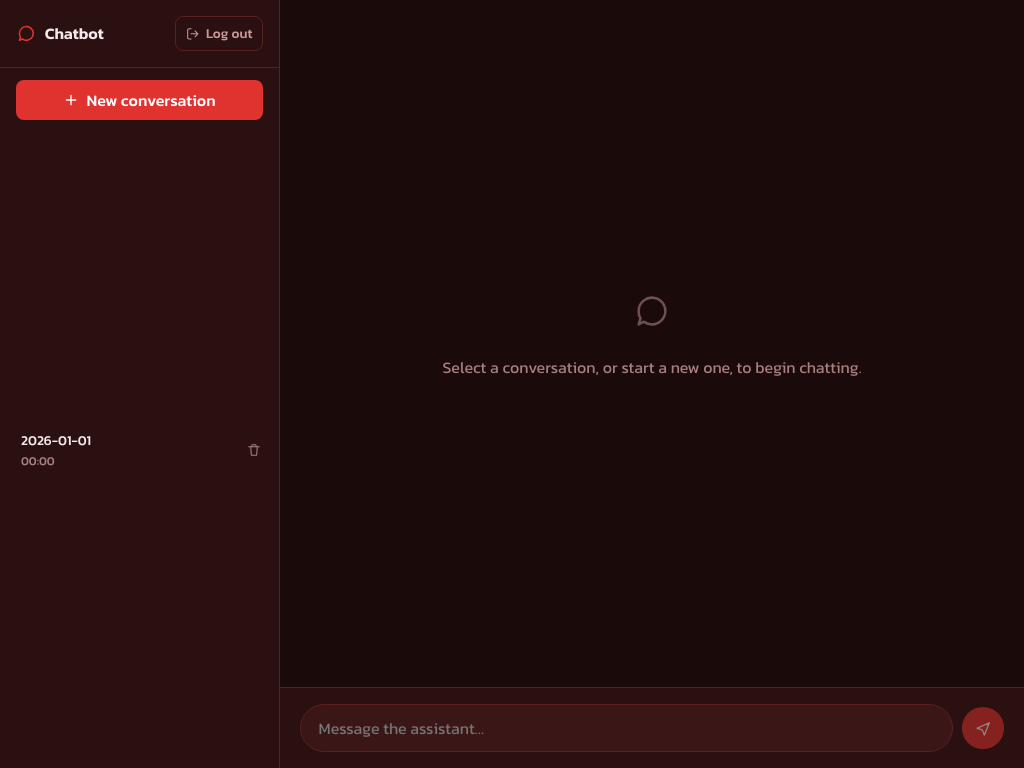
a provider failure shows an inline error and does not add a broken assistant message
Click the button "2026-01-01 00:00" at coordinates (121, 450), box x1=10 y1=421 x2=232 y2=479
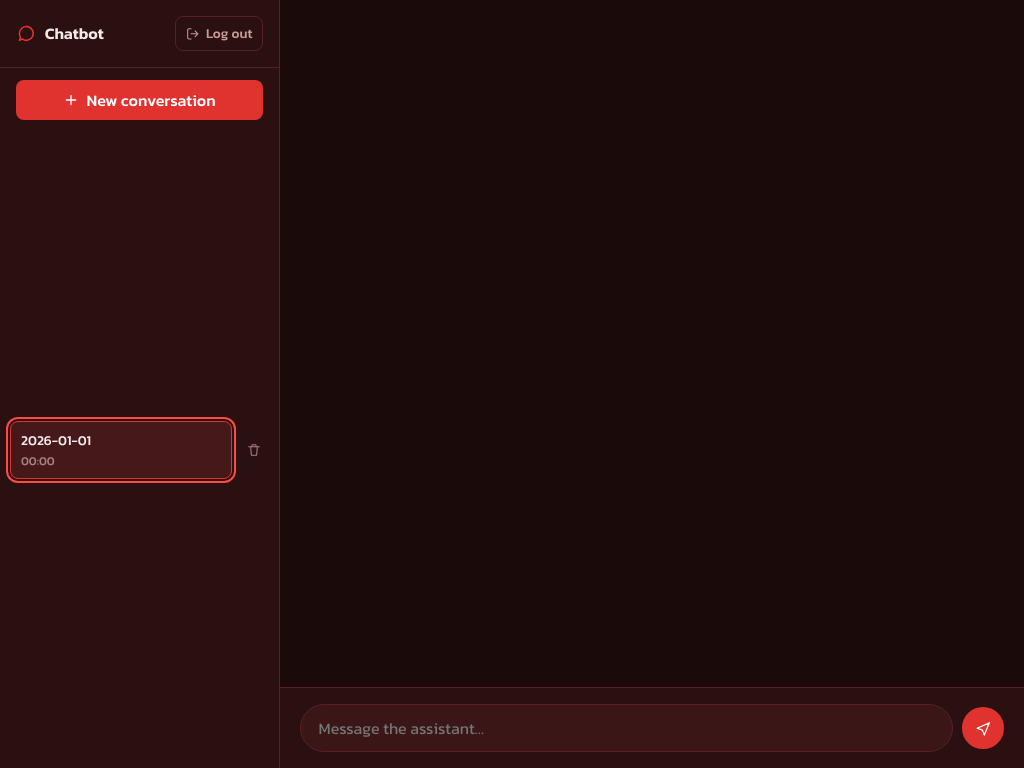
Type "hello" into the field labelled "Message the assistant…" at coordinates (626, 728), box x1=300 y1=704 x2=953 y2=752
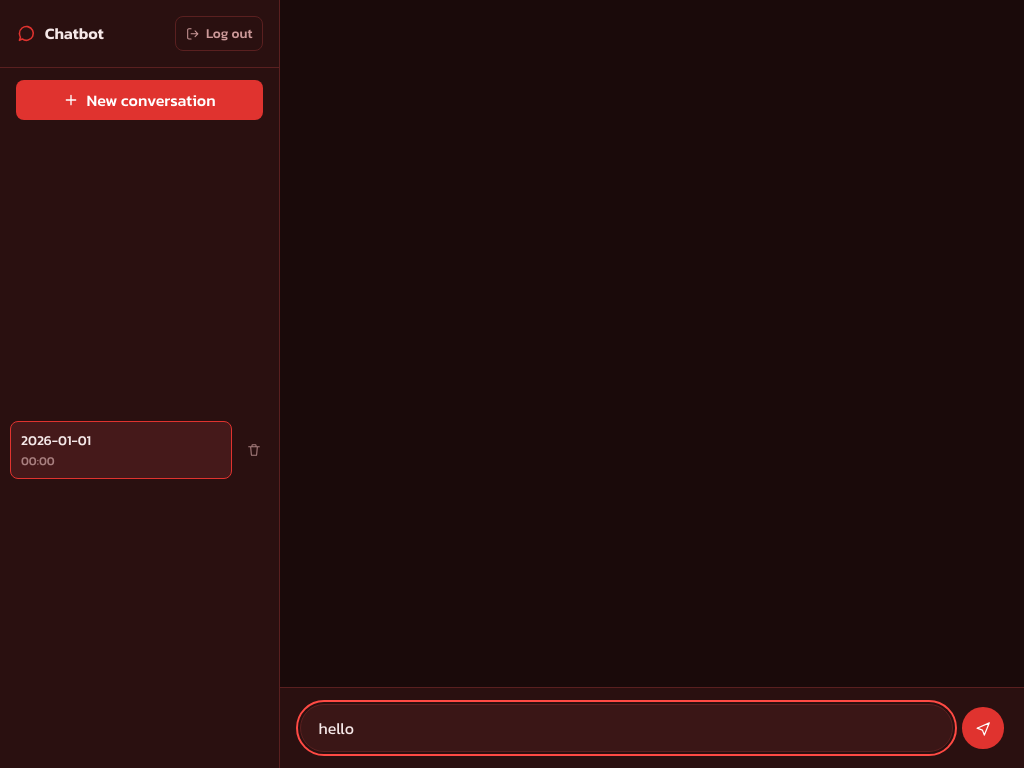
Click the button named "send" at coordinates (983, 728), box x1=962 y1=707 x2=1004 y2=749
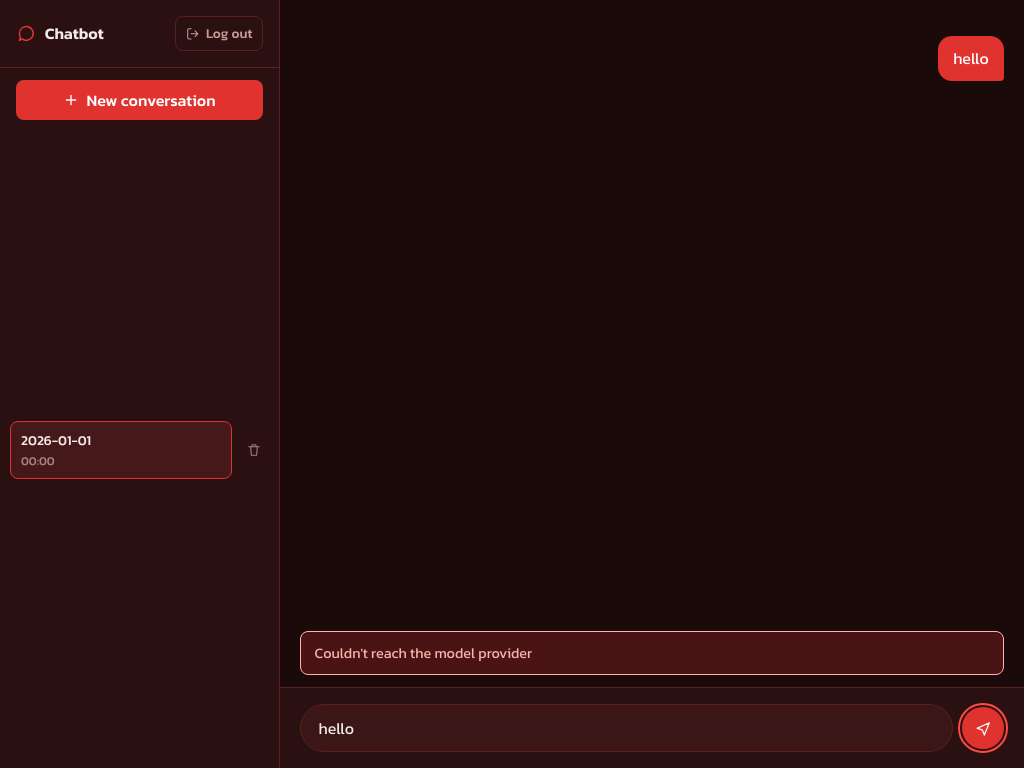
Expected: the message reads "Couldn't reach the model provider", x1=315 y1=642 x2=532 y2=664
